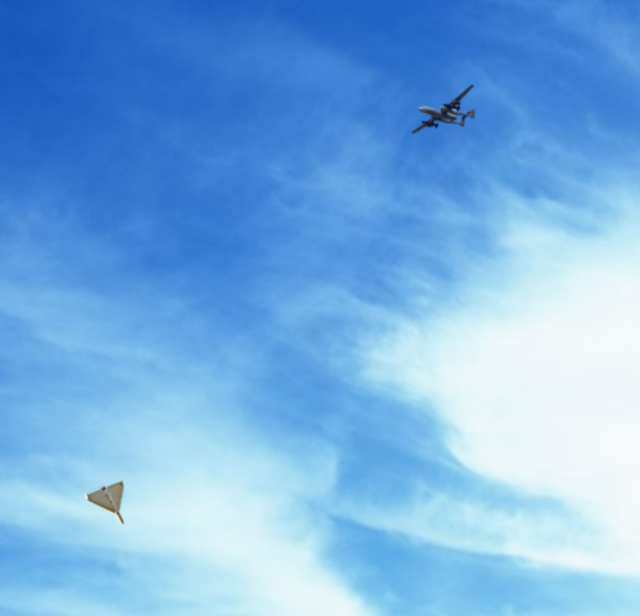military drone: (410, 84, 474, 133), (84, 479, 125, 525)
